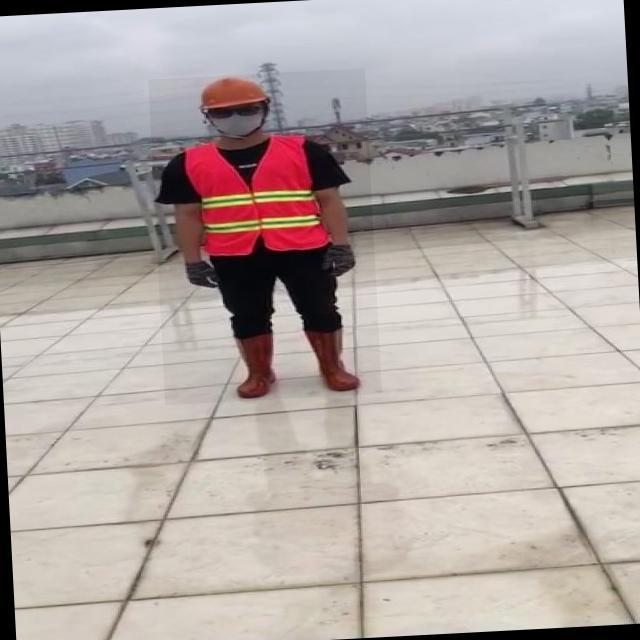Gloves: (322, 245, 358, 278), (184, 261, 223, 291)
Helmet: (193, 75, 269, 111)
Human: (148, 69, 382, 406)
Safety Boot: (303, 328, 363, 395), (228, 333, 285, 398)
Safety Vest: (181, 132, 328, 258)
